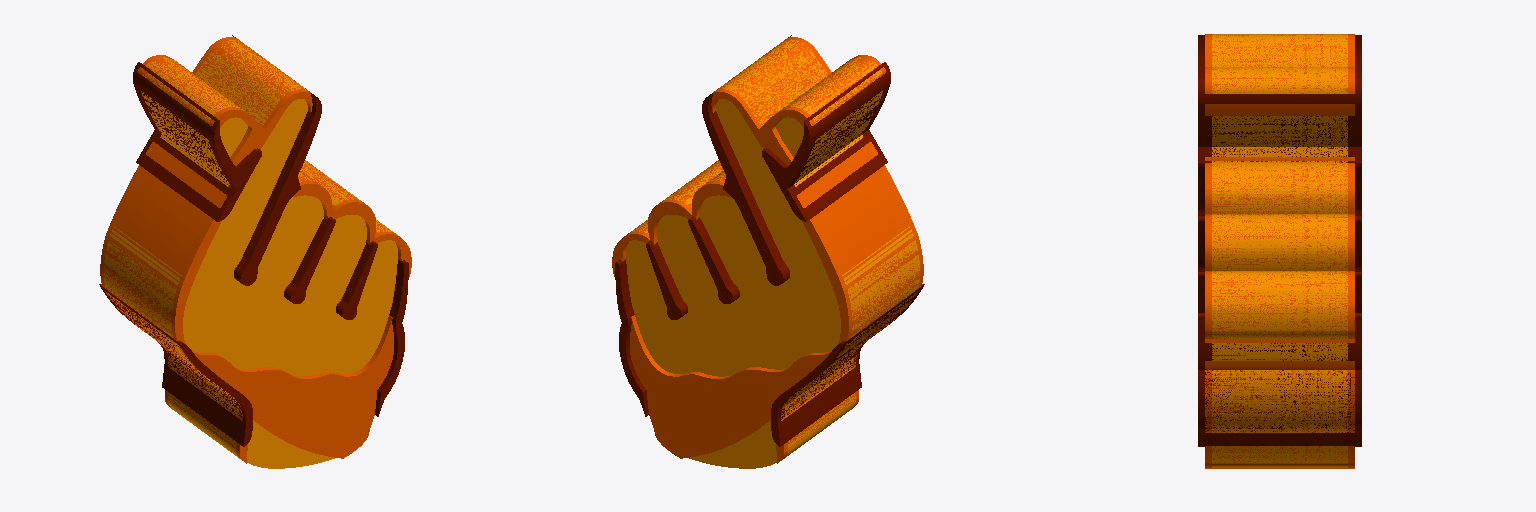
Rendered from U+1FAF0.obj.
3 views of the same model, side by side, from view 1: azimuth 30°, elevation 25°; view 2: azimuth 150°, elevation 25°; view 3: azimuth 270°, elevation 25° (orthographic).
Parts seen in each view (by area): view 1: U+1FAF0_layer00_obj00, U+1FAF0_layer01_obj00, U+1FAF0_layer02_obj00, U+1FAF0_layer01_obj01, U+1FAF0_layer02_obj05, U+1FAF0_layer02_obj03, U+1FAF0_layer01_obj02, U+1FAF0_layer02_obj02, U+1FAF0_layer02_obj04, U+1FAF0_layer02_obj01; view 2: U+1FAF0_layer00_obj00, U+1FAF0_layer01_obj00, U+1FAF0_layer02_obj00, U+1FAF0_layer01_obj01, U+1FAF0_layer02_obj05, U+1FAF0_layer02_obj03, U+1FAF0_layer01_obj02, U+1FAF0_layer02_obj02, U+1FAF0_layer02_obj04, U+1FAF0_layer02_obj01; view 3: U+1FAF0_layer00_obj00, U+1FAF0_layer01_obj02, U+1FAF0_layer02_obj02, U+1FAF0_layer02_obj03, U+1FAF0_layer01_obj00, U+1FAF0_layer01_obj01, U+1FAF0_layer02_obj04, U+1FAF0_layer02_obj00, U+1FAF0_layer02_obj01.
Part boxes in pixels (left/top/right/bottom): U+1FAF0_layer00_obj00: left=104, top=40, right=397, bottom=468; U+1FAF0_layer01_obj00: left=100, top=142, right=393, bottom=463; U+1FAF0_layer02_obj00: left=133, top=62, right=261, bottom=221; U+1FAF0_layer01_obj01: left=138, top=37, right=312, bottom=165; U+1FAF0_layer02_obj05: left=99, top=284, right=252, bottom=446; U+1FAF0_layer02_obj03: left=232, top=35, right=321, bottom=285; U+1FAF0_layer01_obj02: left=293, top=161, right=411, bottom=276; U+1FAF0_layer02_obj02: left=375, top=259, right=408, bottom=416; U+1FAF0_layer02_obj04: left=284, top=217, right=335, bottom=303; U+1FAF0_layer02_obj01: left=336, top=241, right=377, bottom=319; U+1FAF0_layer00_obj00: left=626, top=39, right=919, bottom=468; U+1FAF0_layer01_obj00: left=630, top=142, right=923, bottom=463; U+1FAF0_layer02_obj00: left=762, top=62, right=890, bottom=221; U+1FAF0_layer01_obj01: left=711, top=37, right=885, bottom=165; U+1FAF0_layer02_obj05: left=771, top=284, right=924, bottom=446; U+1FAF0_layer02_obj03: left=702, top=35, right=791, bottom=285; U+1FAF0_layer01_obj02: left=612, top=160, right=730, bottom=276; U+1FAF0_layer02_obj02: left=615, top=259, right=648, bottom=416; U+1FAF0_layer02_obj04: left=688, top=217, right=739, bottom=303; U+1FAF0_layer02_obj01: left=646, top=241, right=687, bottom=319; U+1FAF0_layer00_obj00: left=1212, top=34, right=1347, bottom=467; U+1FAF0_layer01_obj02: left=1205, top=157, right=1354, bottom=342; U+1FAF0_layer02_obj02: left=1198, top=313, right=1361, bottom=446; U+1FAF0_layer02_obj03: left=1198, top=78, right=1361, bottom=215; U+1FAF0_layer01_obj00: left=1205, top=361, right=1354, bottom=468; U+1FAF0_layer01_obj01: left=1205, top=34, right=1354, bottom=115; U+1FAF0_layer02_obj04: left=1198, top=216, right=1361, bottom=271; U+1FAF0_layer02_obj00: left=1198, top=35, right=1361, bottom=77; U+1FAF0_layer02_obj01: left=1198, top=272, right=1361, bottom=312.
Size of the model in its own units: 0.201 by 0.3074 by 0.12.